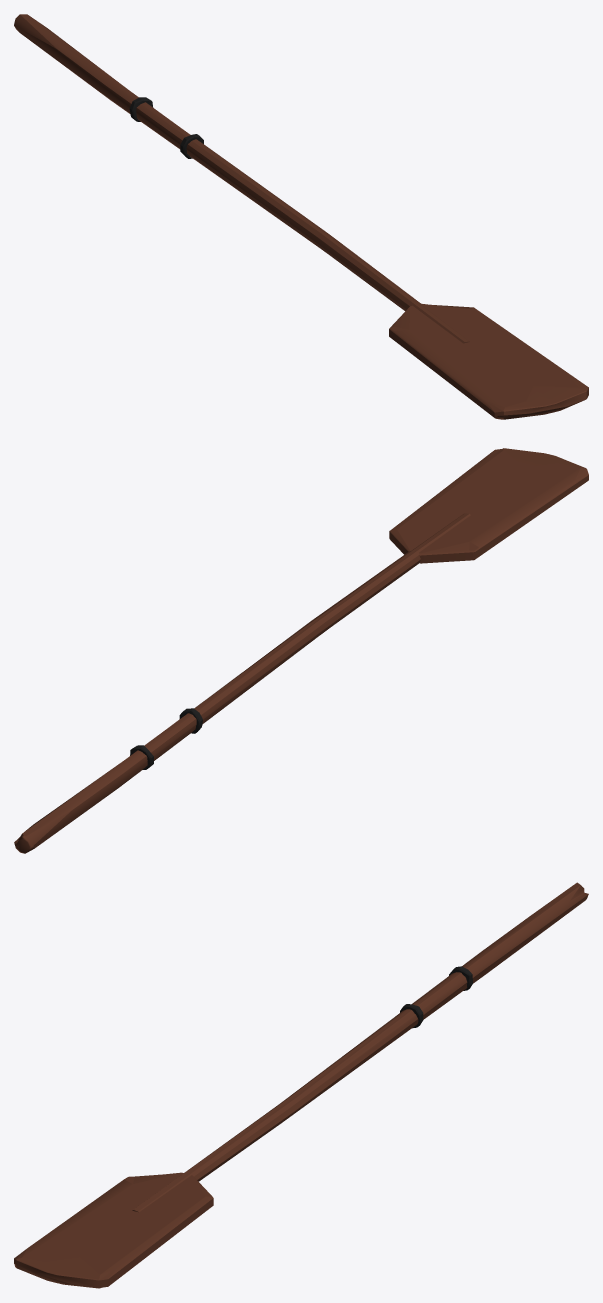
Rendered from Env_Oar.fbx.
3 views of the same model, one above another, from view 1: azimuth 30°, elevation 25°; view 2: azimuth 150°, elevation 25°; view 3: azimuth 330°, elevation 25° (orthographic).
Visible parts, largest first — view 1: Env_Oar; view 2: Env_Oar; view 3: Env_Oar.
Boxes of the visible parts, x1,y1,x2,y2 form: Env_Oar: (14,14,588,419); Env_Oar: (14,448,588,853); Env_Oar: (14,882,588,1288).
Size of the model in its own units: 1.1 by 0.2567 by 10.7.
